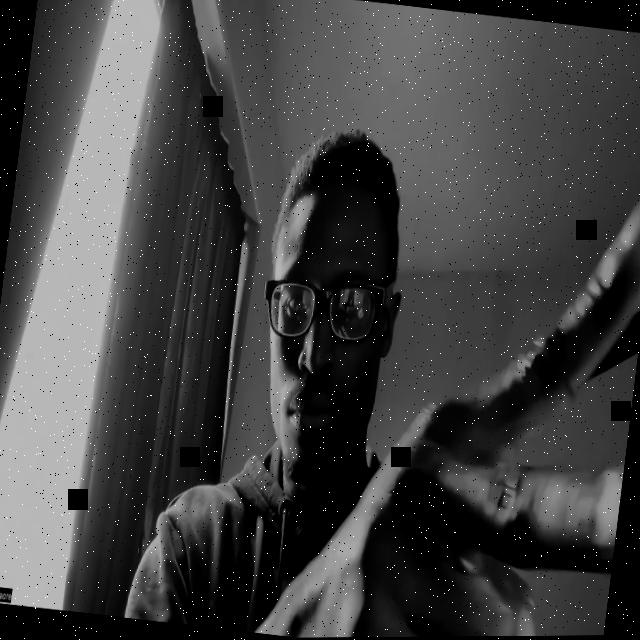Scissors: (276, 150, 640, 638)
